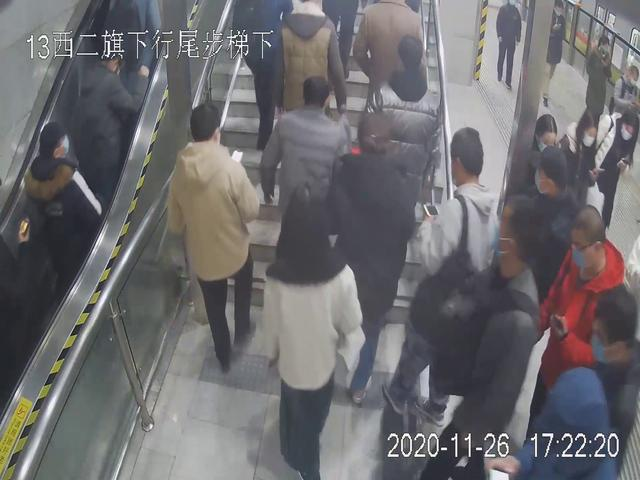person: (384, 123, 506, 420), (258, 195, 363, 480), (169, 102, 269, 371), (534, 203, 626, 442), (264, 74, 350, 245), (22, 120, 106, 289), (359, 31, 440, 201), (492, 1, 524, 92)
